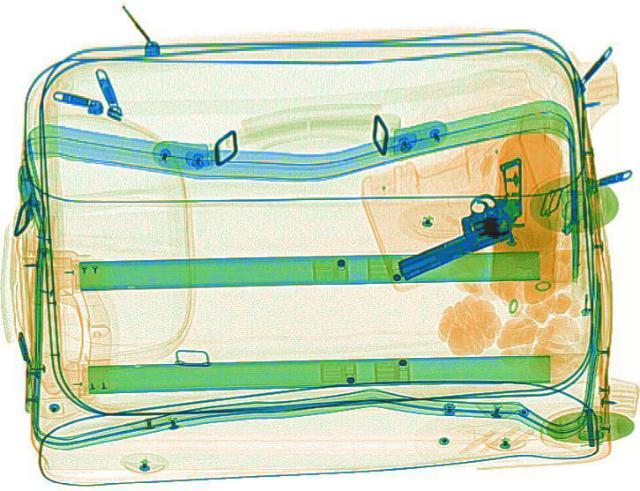Gun: (355, 155, 567, 284)
